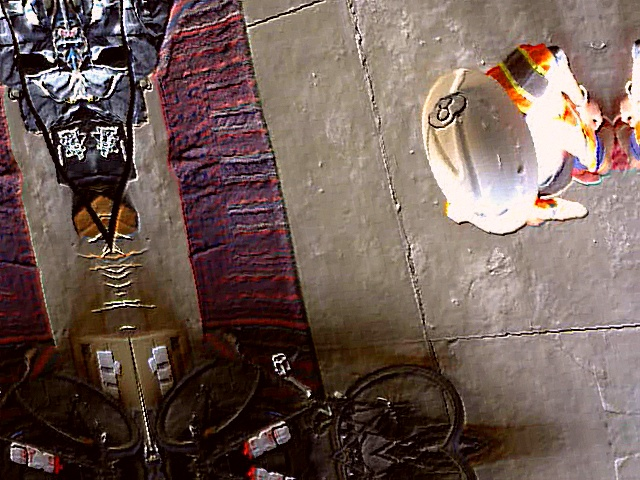eight: (425, 92, 471, 127)
